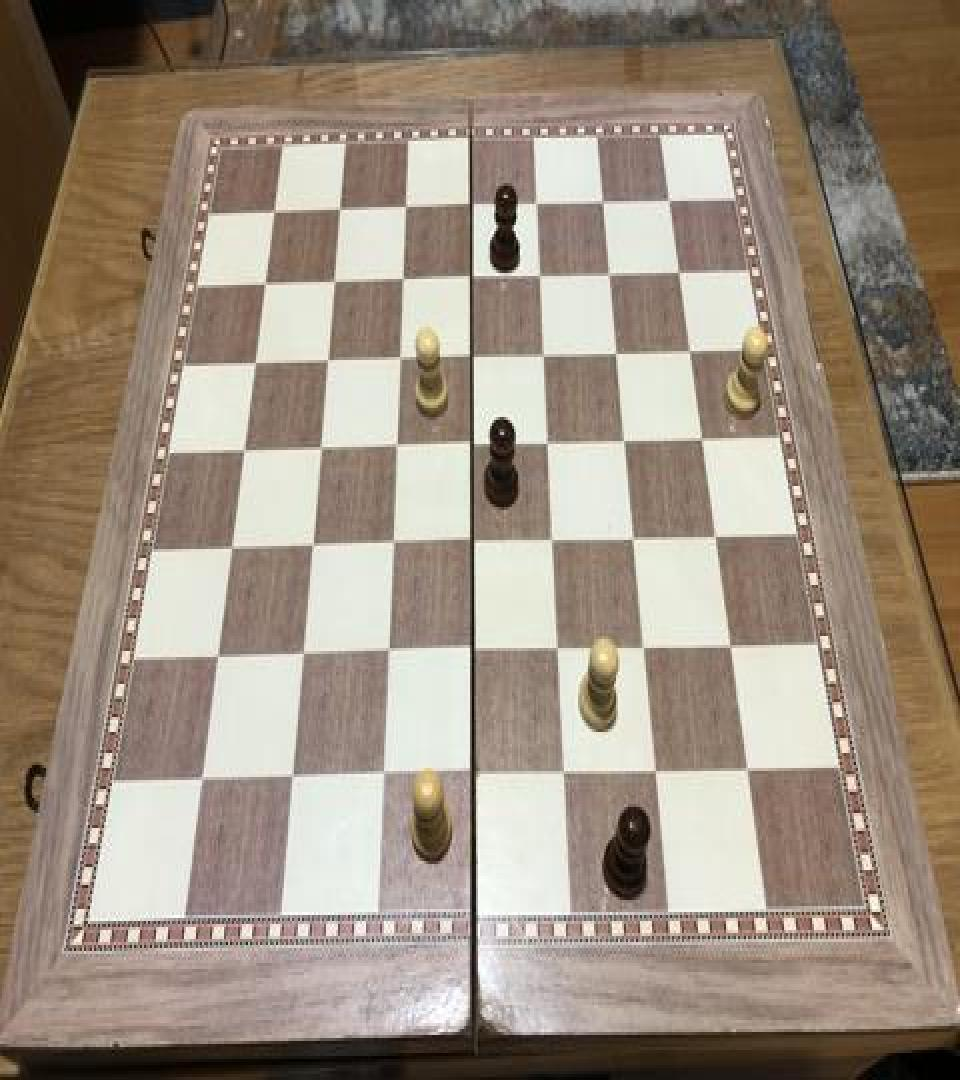xcorner: (633, 637, 657, 674), (460, 640, 484, 677), (460, 763, 484, 800), (660, 186, 684, 222), (526, 190, 550, 226), (459, 192, 483, 228), (392, 194, 416, 230), (326, 195, 350, 231), (260, 198, 284, 234), (599, 261, 623, 297), (529, 262, 553, 298), (459, 264, 483, 300), (389, 267, 413, 303), (320, 268, 344, 304), (250, 270, 274, 306), (680, 339, 704, 375), (606, 340, 630, 376), (533, 342, 557, 378), (459, 345, 483, 381), (386, 346, 410, 382), (313, 348, 337, 384), (240, 350, 264, 386), (692, 428, 716, 464), (614, 429, 638, 465), (459, 432, 483, 468), (382, 435, 406, 471), (306, 436, 330, 472), (229, 438, 253, 474), (705, 525, 729, 561), (623, 528, 647, 564), (541, 530, 565, 566), (460, 531, 484, 567), (378, 532, 402, 568), (297, 534, 321, 570), (217, 536, 241, 572), (720, 636, 744, 672), (546, 639, 570, 675), (374, 642, 398, 678), (288, 644, 312, 680), (203, 645, 227, 681), (737, 759, 761, 795), (644, 760, 668, 796), (552, 762, 576, 798), (369, 765, 393, 801), (278, 766, 302, 802), (187, 768, 211, 804), (593, 188, 617, 223), (670, 260, 694, 295), (537, 431, 561, 466)
